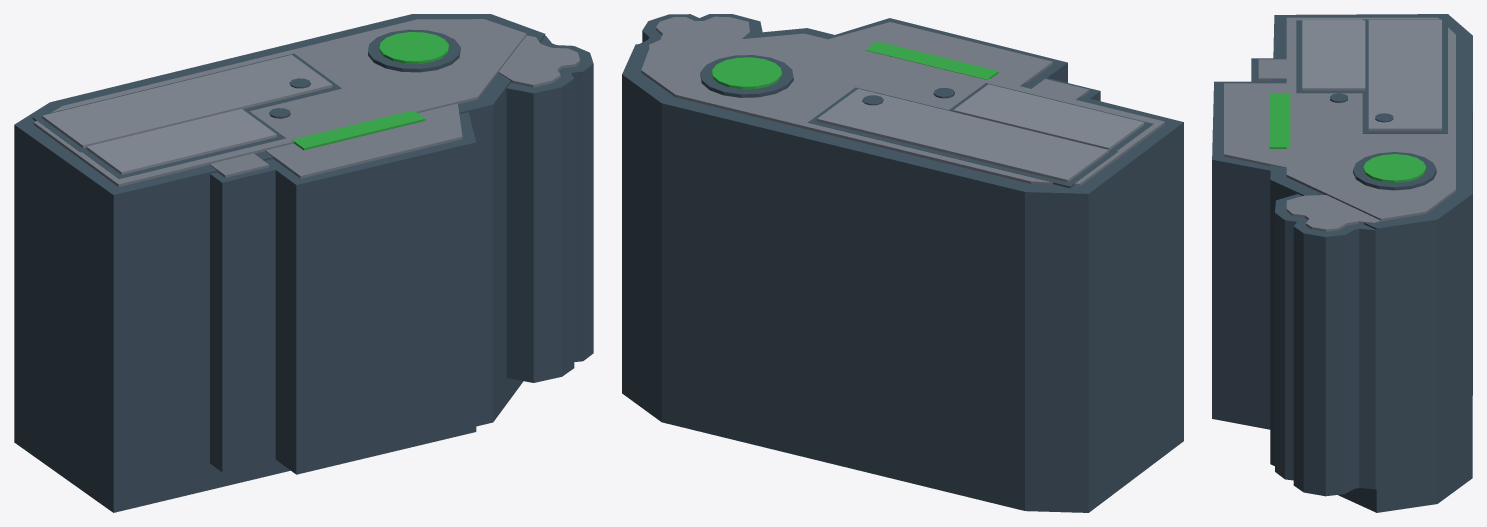
Rendered from bag_cofre_metal.fbx.
3 views of the same model, side by side, from view 1: azimuth 30°, elevation 25°; view 2: azimuth 150°, elevation 25°; view 3: azimuth 270°, elevation 25° (orthographic). The views are drawn at different scales.
Visible parts, largest first — view 1: bag_cofre_metal_mochila, bag_cofre_metal_mochila_neon; view 2: bag_cofre_metal_mochila, bag_cofre_metal_mochila_neon; view 3: bag_cofre_metal_mochila, bag_cofre_metal_mochila_neon.
Boxes of the visible parts, x1=… form: bag_cofre_metal_mochila: x1=14, y1=14, x2=593, y2=512; bag_cofre_metal_mochila_neon: x1=292, y1=32, x2=448, y2=150; bag_cofre_metal_mochila: x1=622, y1=14, x2=1183, y2=512; bag_cofre_metal_mochila_neon: x1=712, y1=41, x2=998, y2=89; bag_cofre_metal_mochila: x1=1212, y1=14, x2=1472, y2=512; bag_cofre_metal_mochila_neon: x1=1269, y1=94, x2=1426, y2=182.
Bounding box in the file's own units: 3.01 × 1.85 × 1.5.
1 material, 1 textured.
